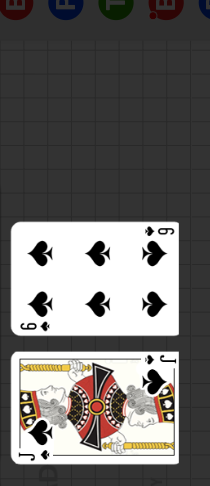6S: (19, 319, 53, 332), (143, 226, 176, 238)
JS: (130, 353, 177, 397), (10, 420, 56, 464)
